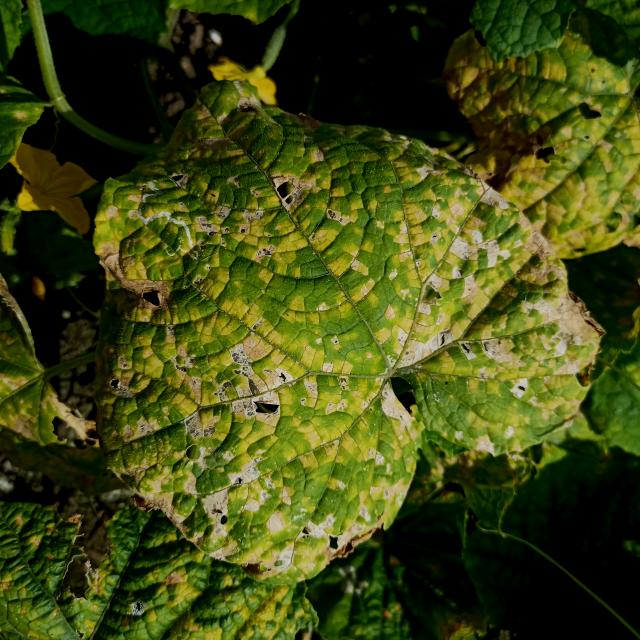disease_cucumber: (100, 97, 574, 570), (444, 31, 640, 264)
